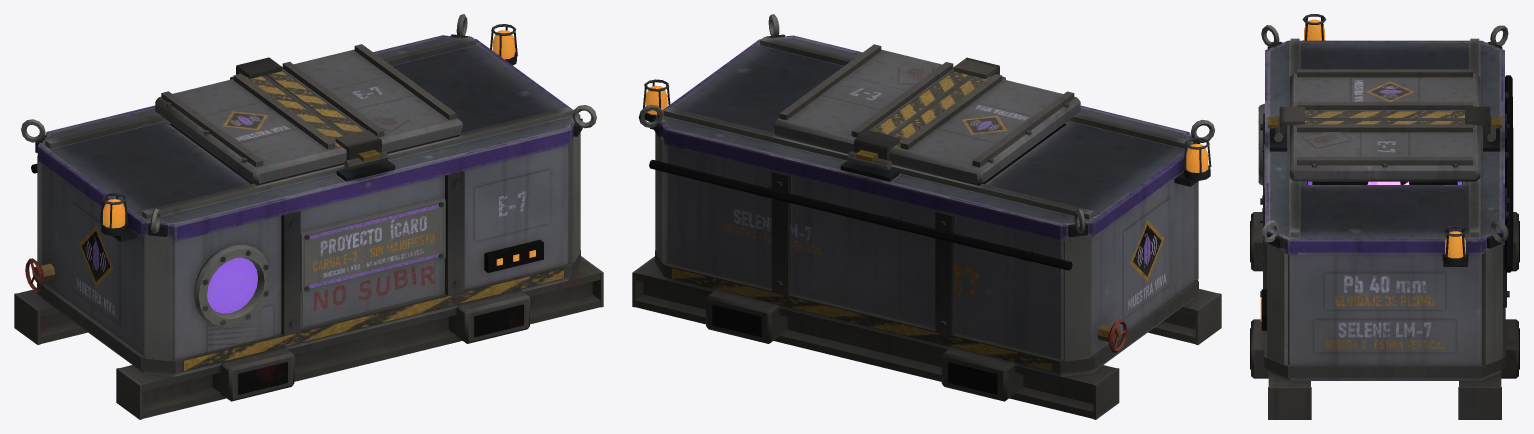
File: caja.glb
3 renders of one model, left to right at view 1: azimuth 30°, elevation 25°; view 2: azimuth 150°, elevation 25°; view 3: azimuth 270°, elevation 25°, orthographic. The views are drawn at different scales.
Parts seen in each view (by area): view 1: caja_cuerpo_m, caja_tapa_i_m, caja_tapa_d_m, caja_traba_f_m, caja_traba_b_m; view 2: caja_cuerpo_m, caja_tapa_i_m, caja_tapa_d_m, caja_traba_b_m, caja_traba_f_m; view 3: caja_cuerpo_m, caja_tapa_d_m, caja_tapa_i_m, caja_traba_b_m, caja_traba_f_m.
Part boxes in pixels (bbox=[...]): caja_cuerpo_m: bbox=[14, 14, 603, 419]; caja_tapa_i_m: bbox=[155, 73, 346, 185]; caja_tapa_d_m: bbox=[263, 44, 462, 153]; caja_traba_f_m: bbox=[335, 130, 388, 169]; caja_traba_b_m: bbox=[230, 57, 282, 79]; caja_cuerpo_m: bbox=[632, 14, 1221, 419]; caja_tapa_i_m: bbox=[889, 74, 1080, 185]; caja_tapa_d_m: bbox=[773, 44, 972, 153]; caja_traba_b_m: bbox=[848, 130, 900, 169]; caja_traba_f_m: bbox=[953, 57, 1005, 79]; caja_cuerpo_m: bbox=[1250, 14, 1519, 419]; caja_tapa_d_m: bbox=[1289, 120, 1480, 181]; caja_tapa_i_m: bbox=[1289, 69, 1480, 120]; caja_traba_b_m: bbox=[1465, 106, 1502, 141]; caja_traba_f_m: bbox=[1267, 106, 1304, 141].
Size of the model in its own units: 1.49 by 0.627 by 0.765.
4 materials, 3 textured.
